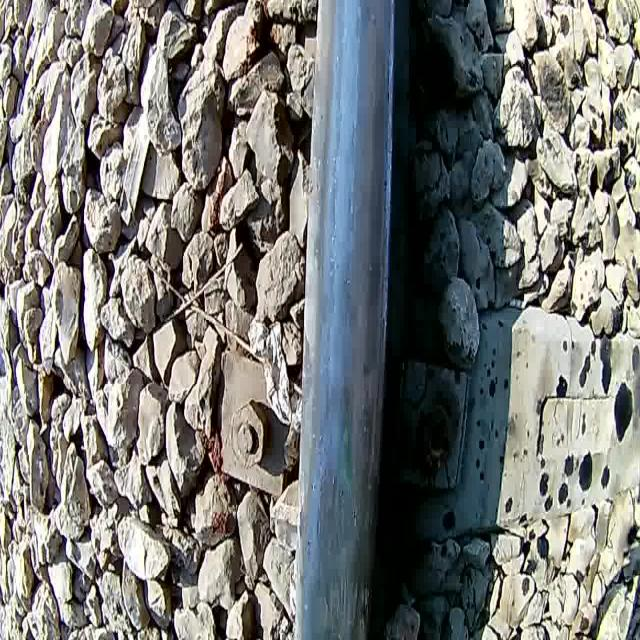Cracks: (347, 562, 381, 640)
Squats: (300, 456, 363, 640), (309, 368, 374, 484)
